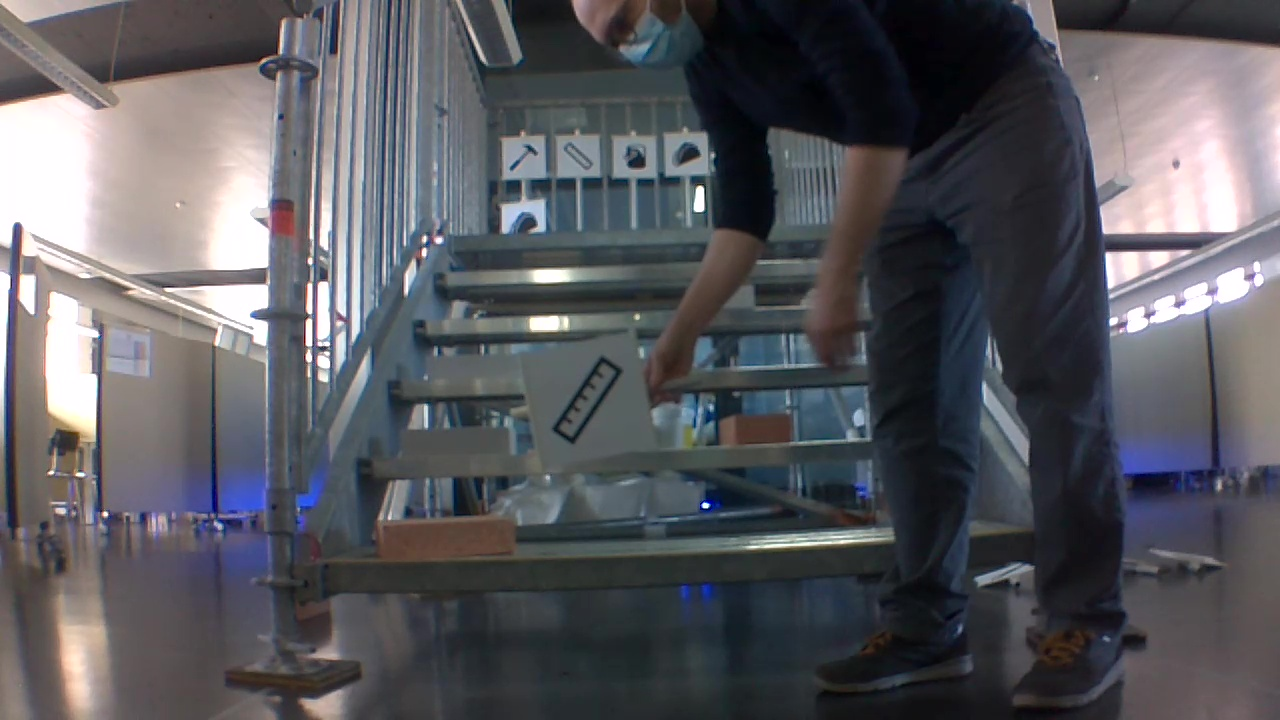brick: (377, 512, 522, 558), (391, 425, 503, 457), (721, 412, 795, 445), (429, 355, 522, 376)
bucket: (620, 141, 649, 173)
hammer: (505, 142, 539, 171)
ruler: (551, 358, 618, 447), (564, 140, 593, 173)
taco: (503, 210, 542, 234), (671, 142, 704, 167)
